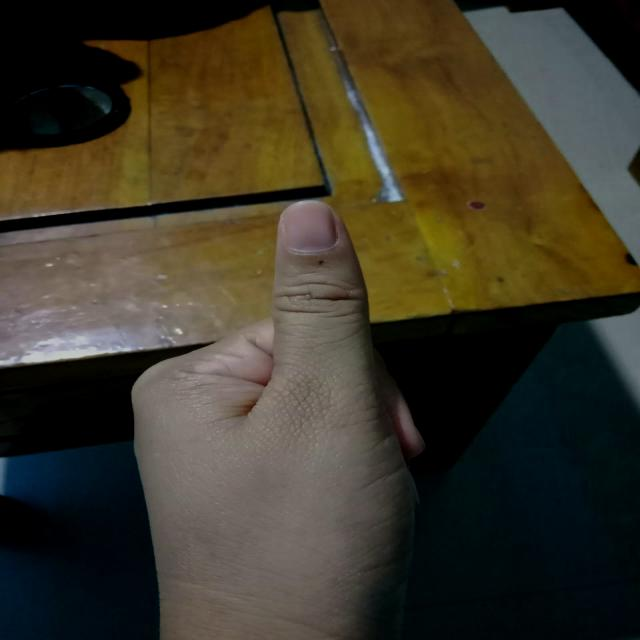sehat: (281, 203, 337, 252)
